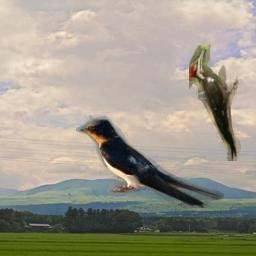Swallow: (76, 114, 224, 208)
Woodpecker: (189, 45, 241, 161)
